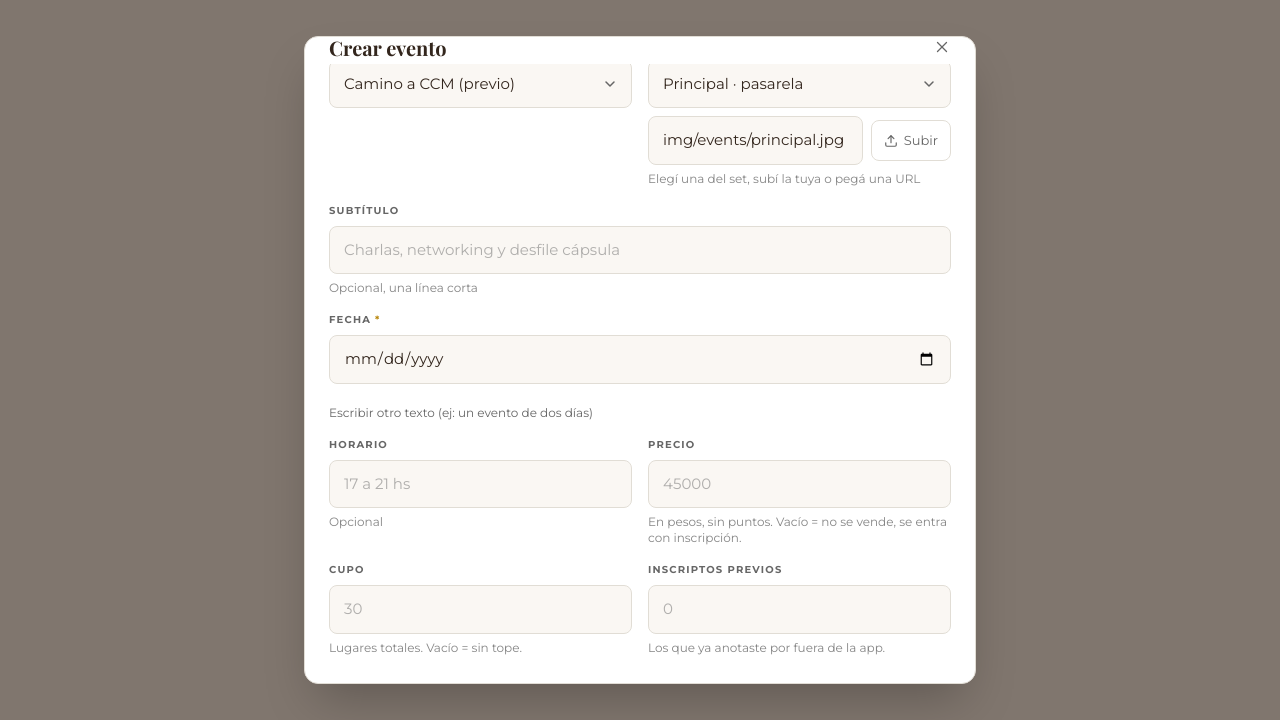
Test: la puerta de escape: eventos que no entran en una sola fecha › se puede volver al texto automático
(page scrolled)
Type "2026-08-21" into the date field labelled "Fecha*" at (640, 360), box 329,335 -> 951,384
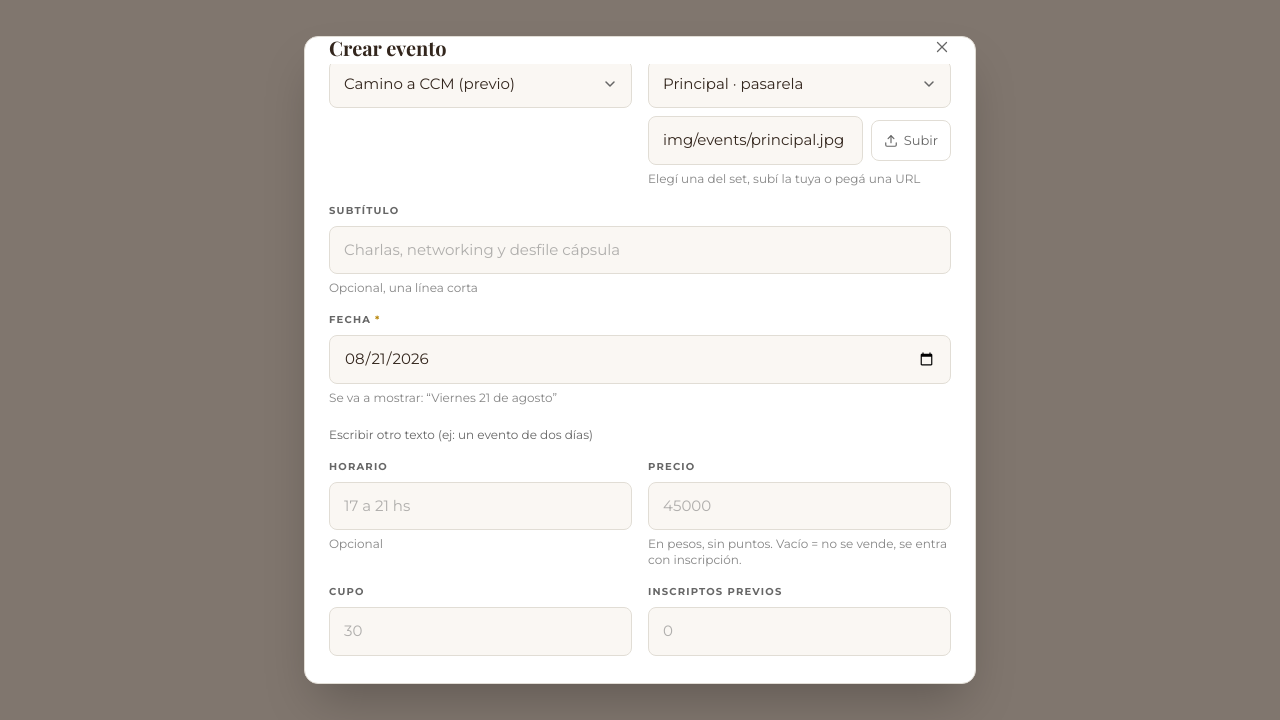
Click the button "Escribir otro texto (ej: un evento de dos días)" at (461, 435), box 329,427 -> 593,443
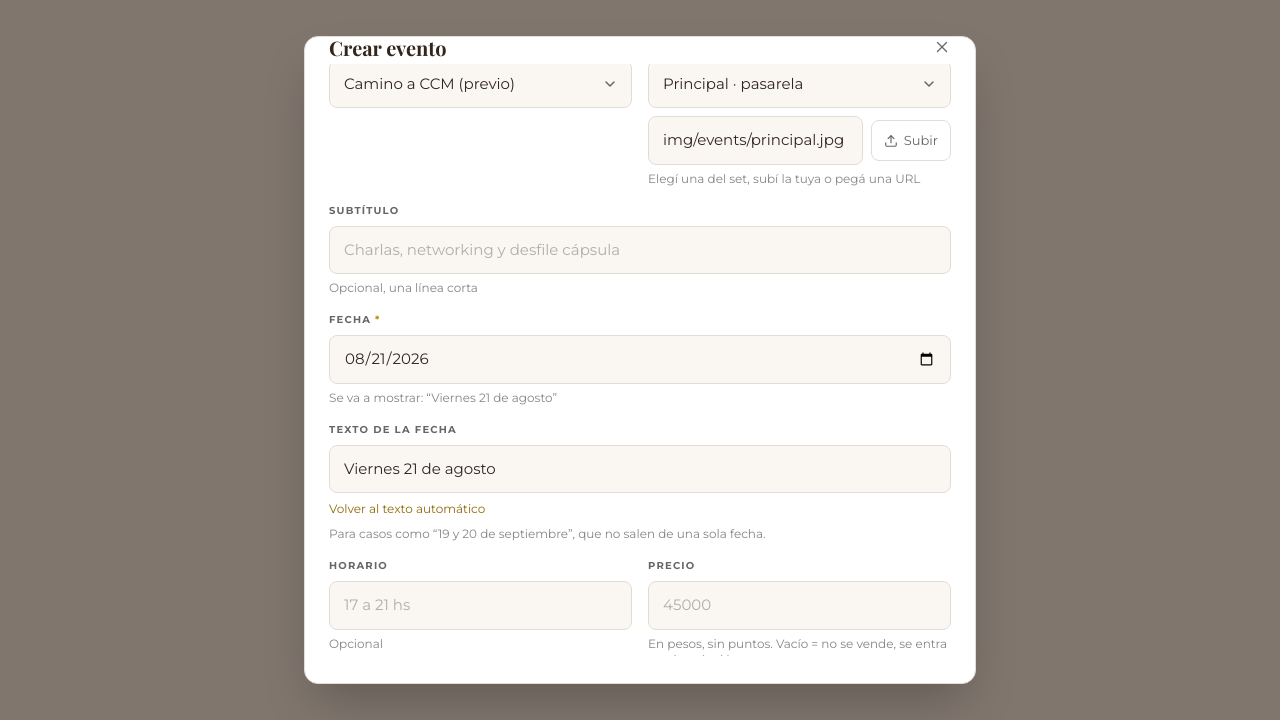
Type "lo que sea" into the 3rd field at (640, 469), box 329,445 -> 951,493
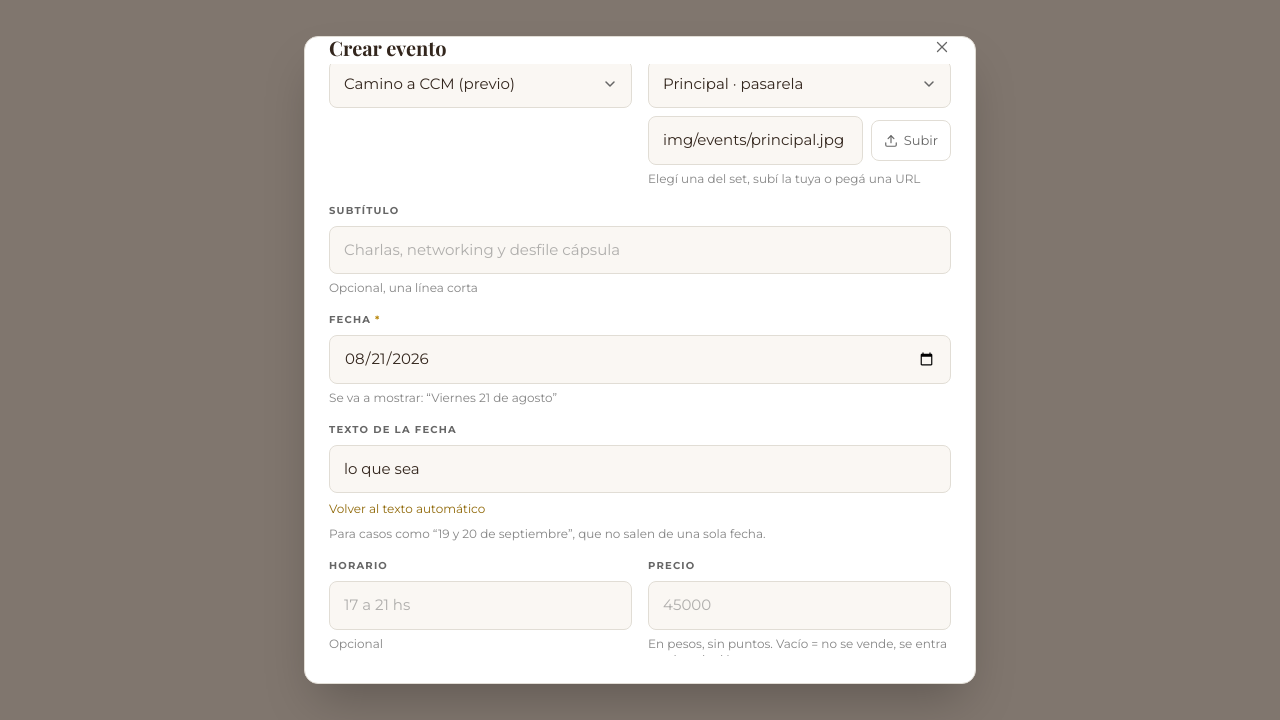
Click the button "Volver al texto automático" at (407, 509), box 329,501 -> 485,517
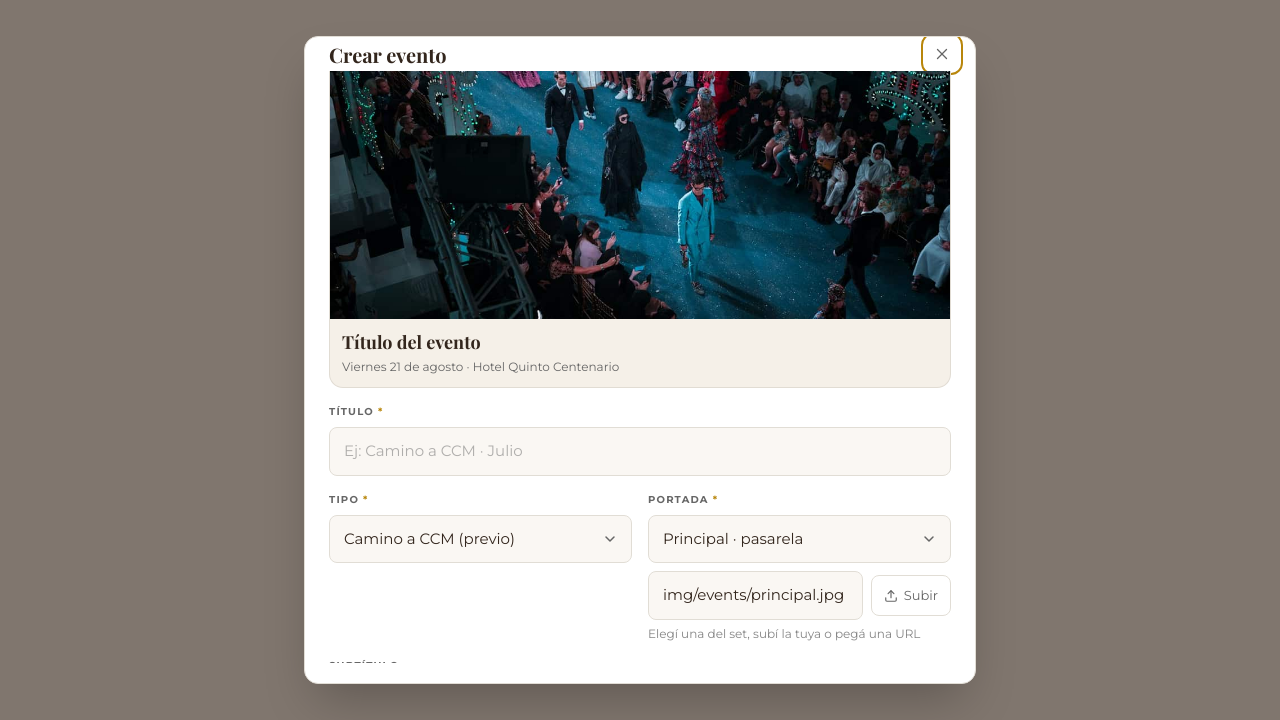
Expected: the text "Viernes 21 de agosto · Hotel Quinto Centenario" is shown, 342,359 -> 619,374
